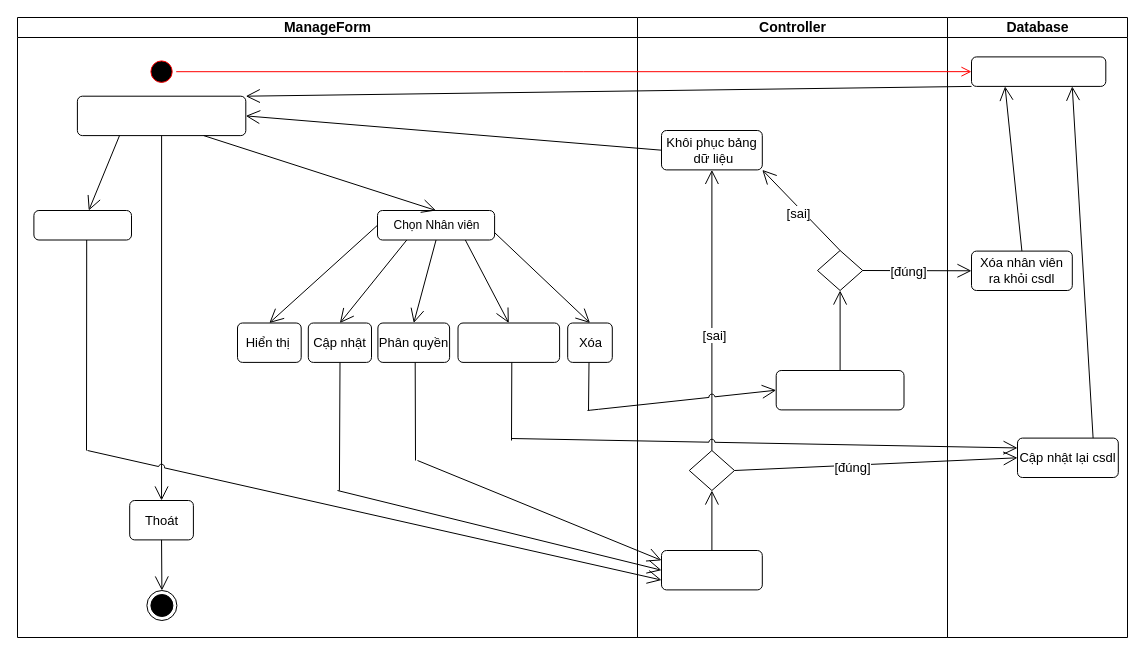
Image size: 1145x655. Some labels were removed from this diagram. The shapes that lost their labels are listed below. From the top down, each one's centre as x and y in pixels, then its label:
point 1038,71: Lấy thông tin nhân viên
point 161,115: Hiển thị Chức năng quản lý tài khoản nhân viên
point 82,225: Thêm Nhân Viên
point 508,342: Ngừng hoạt động
point 839,390: Kiểm tra phân quyền
point 711,570: Kiểm tra thông tin hợp lệ
